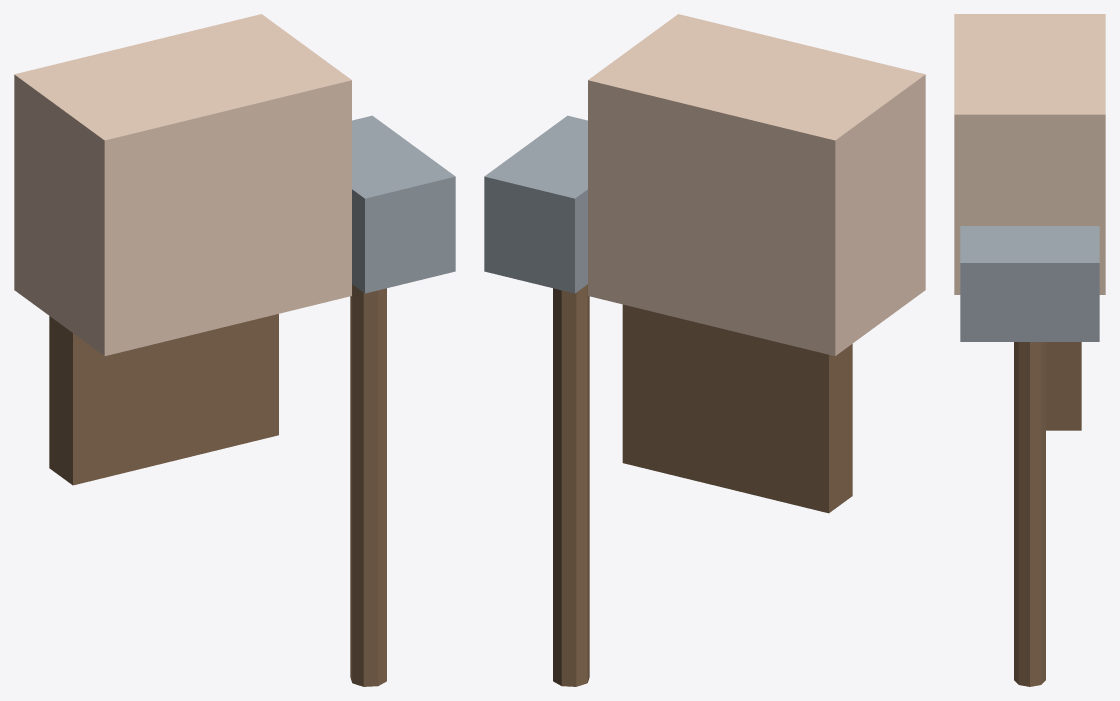
The model's file is npc_blacksmith.glb.
3 renders of one model, left to right at view 1: azimuth 30°, elevation 25°; view 2: azimuth 150°, elevation 25°; view 3: azimuth 270°, elevation 25°, orthographic. The views are drawn at different scales.
Visible parts, largest first — view 1: Cube, Cube.001, Cube.002, Cylinder; view 2: Cube, Cube.001, Cube.002, Cylinder; view 3: Cube, Cube.002, Cylinder, Cube.001.
Part boxes in pixels (x1,y1,x2,y2): Cube: (14,14,351,355); Cube.001: (49,314,278,485); Cube.002: (352,115,455,293); Cylinder: (350,284,386,686); Cube: (588,14,925,355); Cube.001: (622,304,852,513); Cube.002: (484,115,587,293); Cylinder: (553,284,589,686); Cube: (954,14,1105,294); Cube.002: (960,226,1099,341); Cylinder: (1014,342,1045,686); Cube.001: (1046,342,1081,430).
Bounding box in the file's own units: 0.86 × 1.5 × 0.38.
